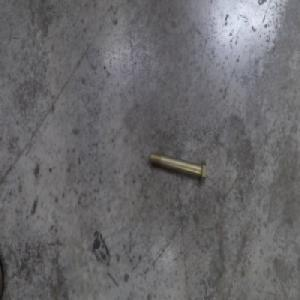Bolt: (148, 150, 207, 184)
